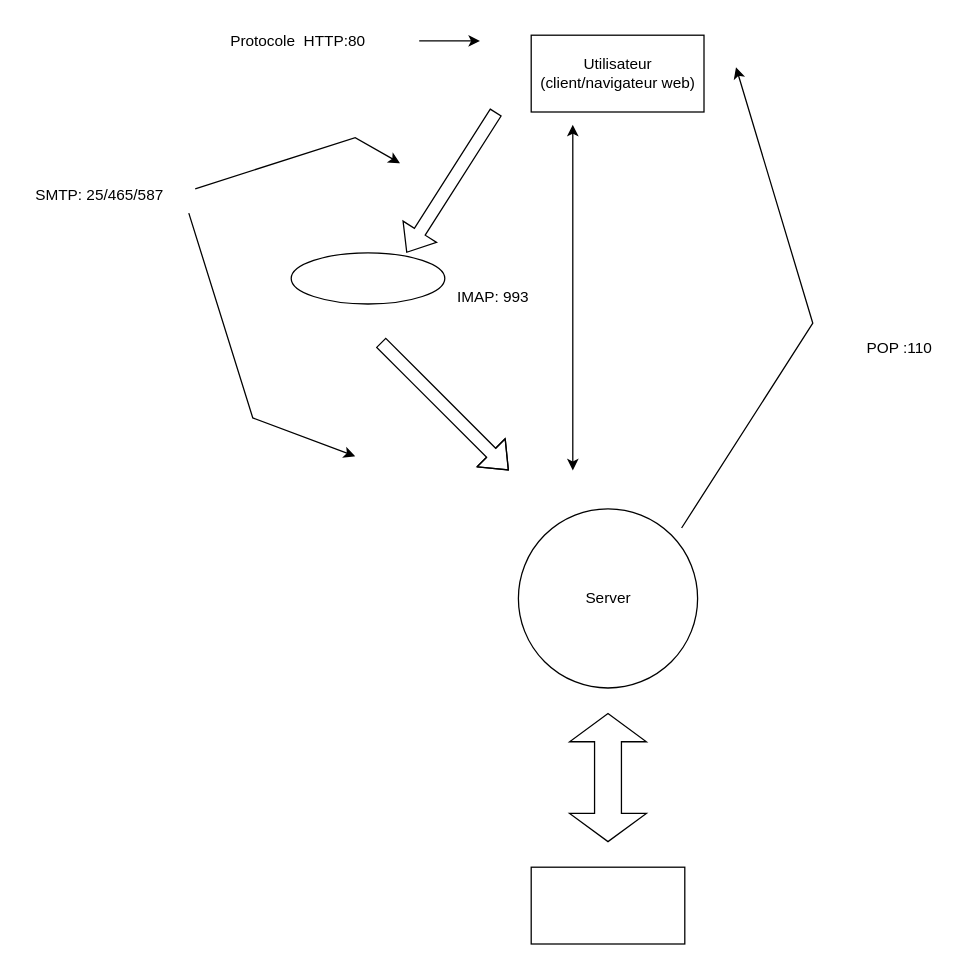
This 965x966 diagram has some shape labels left out. Here are the shapes that lost their labels. From the top down, the centre of each, then its label:
At point (367, 278): "email".
At point (607, 905): "Données".
